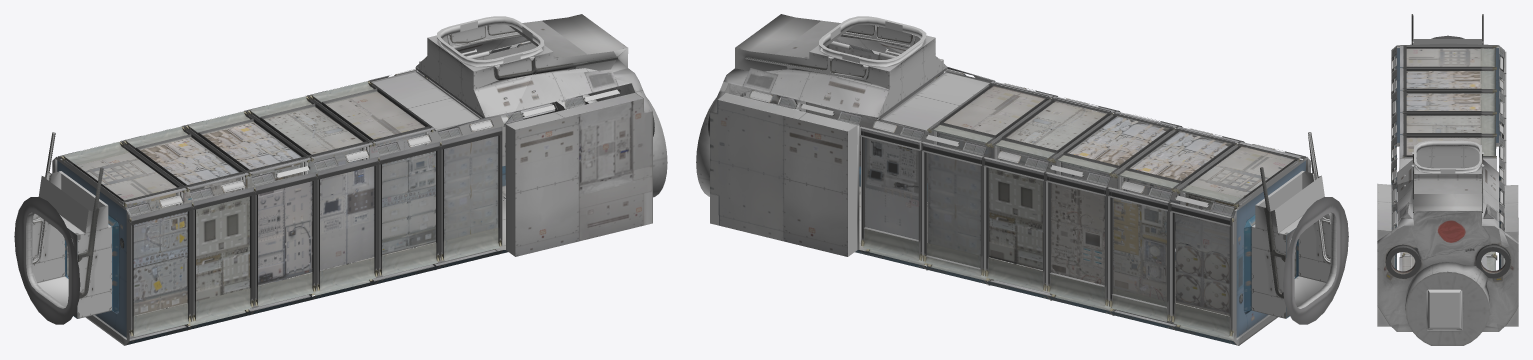
The model's file is jpm.dae.
3 renders of one model, left to right at view 1: azimuth 30°, elevation 25°; view 2: azimuth 150°, elevation 25°; view 3: azimuth 270°, elevation 25°, orthographic. The views are drawn at different scales.
Visible parts, largest first — view 1: JPM_CollapsedForUnity_Starboard; view 2: JPM_CollapsedForUnity_Starboard; view 3: JPM_CollapsedForUnity_Starboard.
Part boxes in pixels (bbox=[...]): JPM_CollapsedForUnity_Starboard: bbox=[14, 14, 667, 345]; JPM_CollapsedForUnity_Starboard: bbox=[696, 14, 1348, 345]; JPM_CollapsedForUnity_Starboard: bbox=[1377, 14, 1518, 345].
Size of the model in its own units: 10.17 by 2.86 by 3.08.
